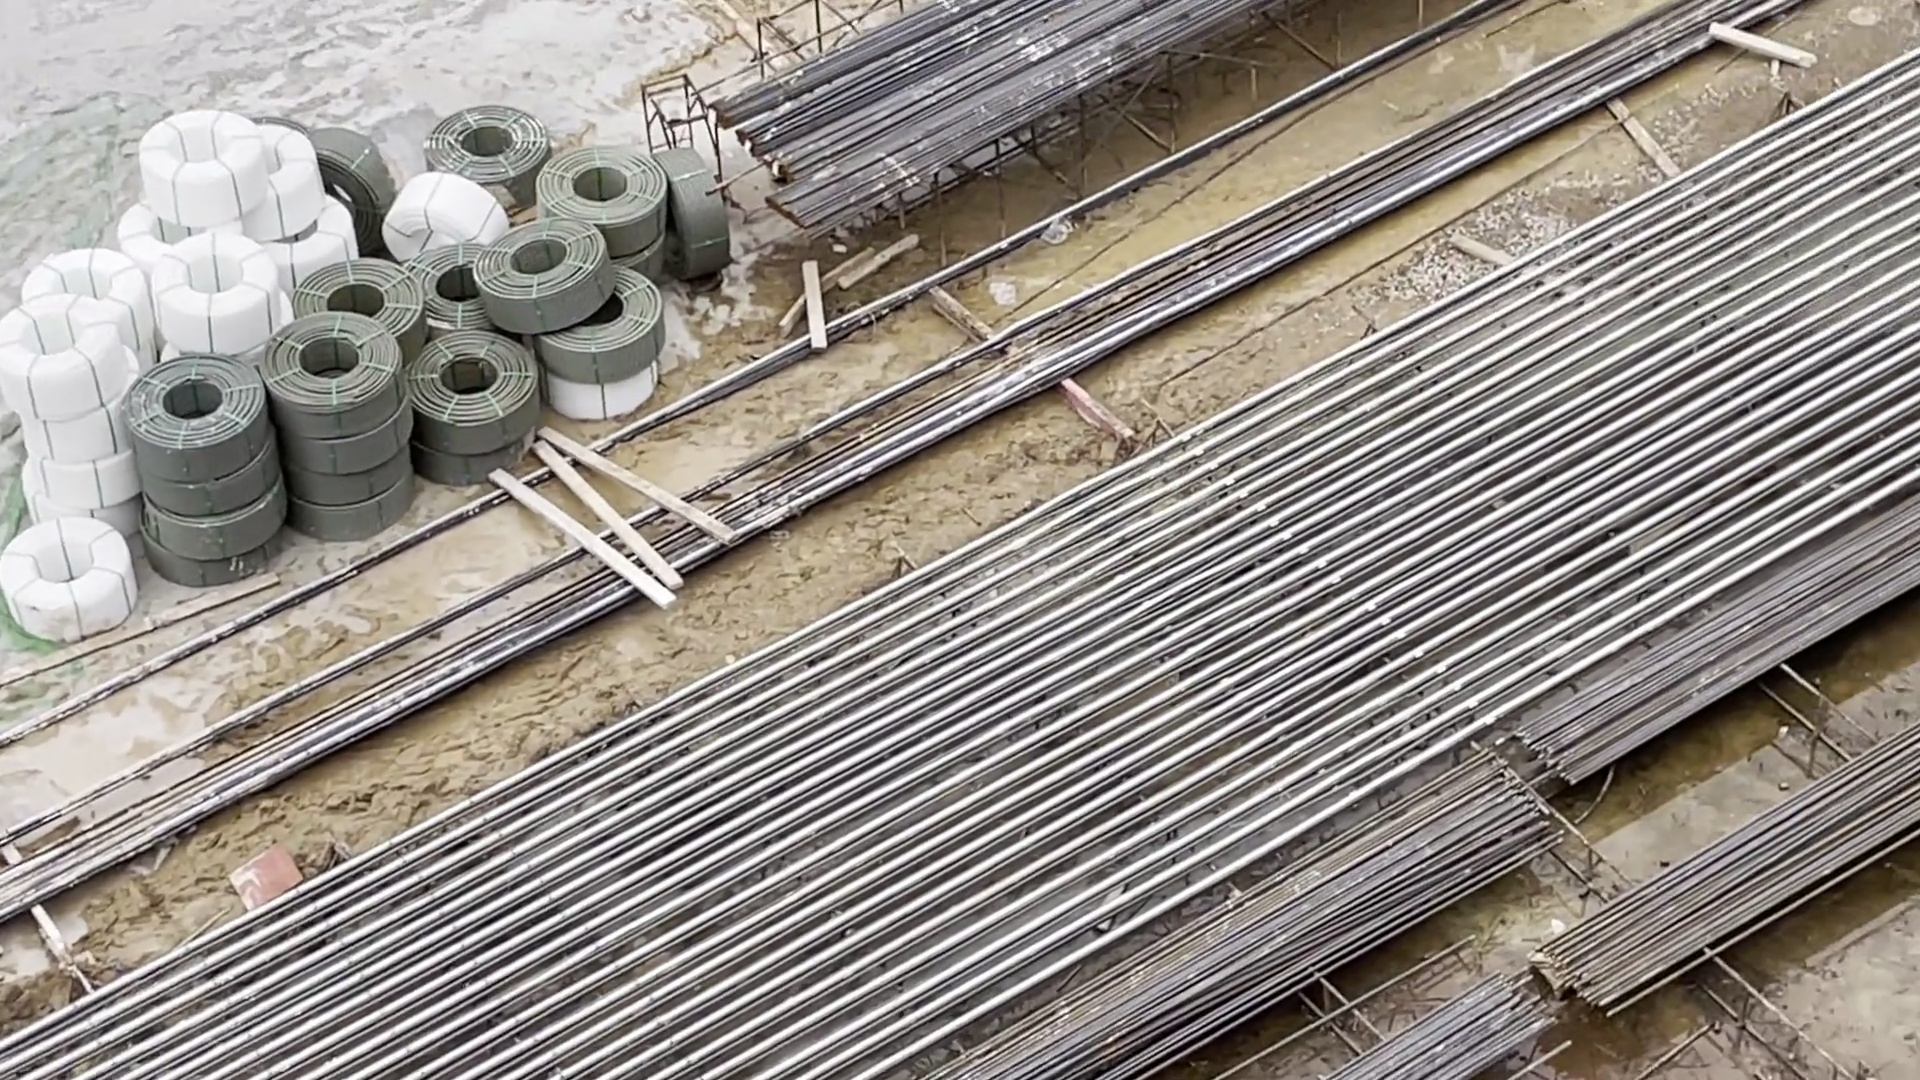rebar: (1054, 545, 1920, 1080), (721, 1, 1191, 224)
